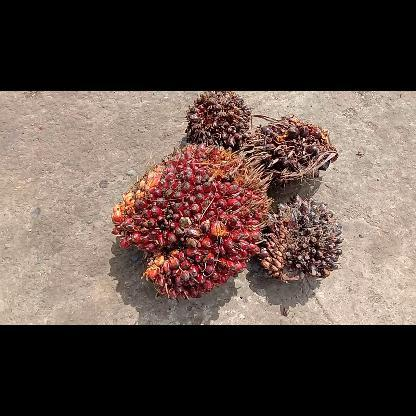TBS abnormal: (256, 192, 344, 284), (245, 110, 339, 188), (182, 92, 252, 152)
TBS masak: (109, 142, 271, 300)
